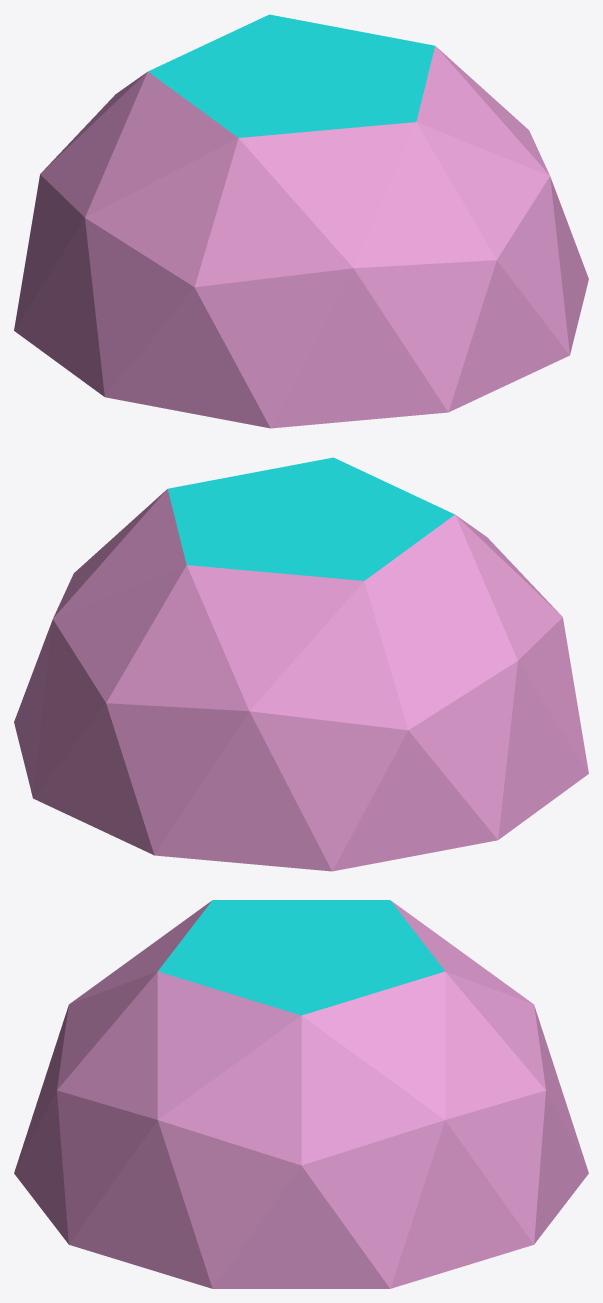
The model's file is check_point.fbx.
3 renders of one model, top to bottom at view 1: azimuth 30°, elevation 25°; view 2: azimuth 150°, elevation 25°; view 3: azimuth 270°, elevation 25°, orthographic. The views are drawn at different scales.
Visible parts, largest first — view 1: Icosphere, Icosphere.001; view 2: Icosphere, Icosphere.001; view 3: Icosphere, Icosphere.001.
Boxes of the visible parts, x1=… form: Icosphere: x1=14, y1=46, x2=588, y2=428; Icosphere.001: x1=148, y1=14, x2=434, y2=137; Icosphere: x1=14, y1=489, x2=588, y2=871; Icosphere.001: x1=168, y1=457, x2=454, y2=580; Icosphere: x1=14, y1=901, x2=588, y2=1288; Icosphere.001: x1=158, y1=900, x2=444, y2=1015.
Size of what is drawn, in the model's own units: 190 by 85.07 by 200.
